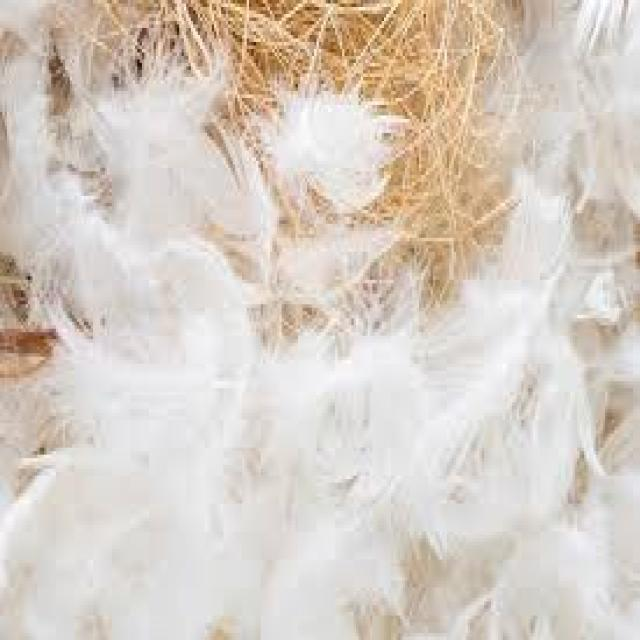Organik: (0, 0, 640, 640), (254, 58, 421, 215), (354, 8, 476, 77)
